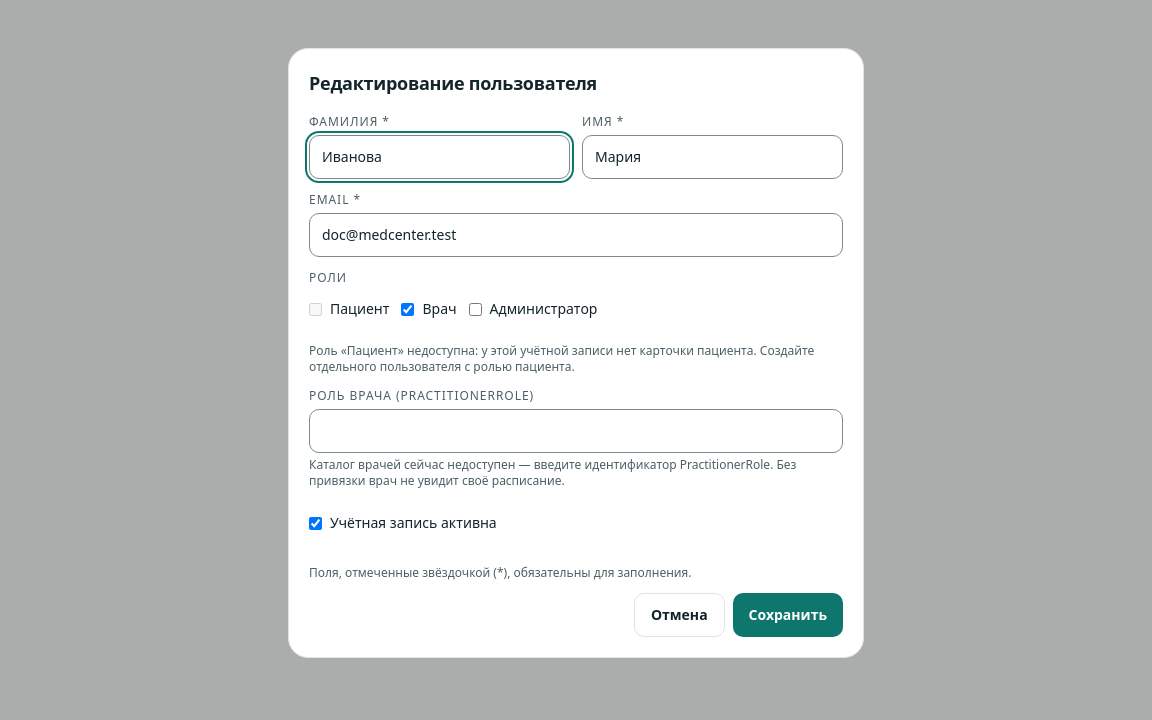
Test case: UserFormDialog (edit) › should put PRACTITIONER_ROLE_TAKEN at the PractitionerRole field when the role belongs to another account
In the field labelled "Роль врача (PractitionerRole)": [576, 431] box [309,409,843,453], type "6ef5270b-6282-5a43-87f9-26d2d8b0c4f7"
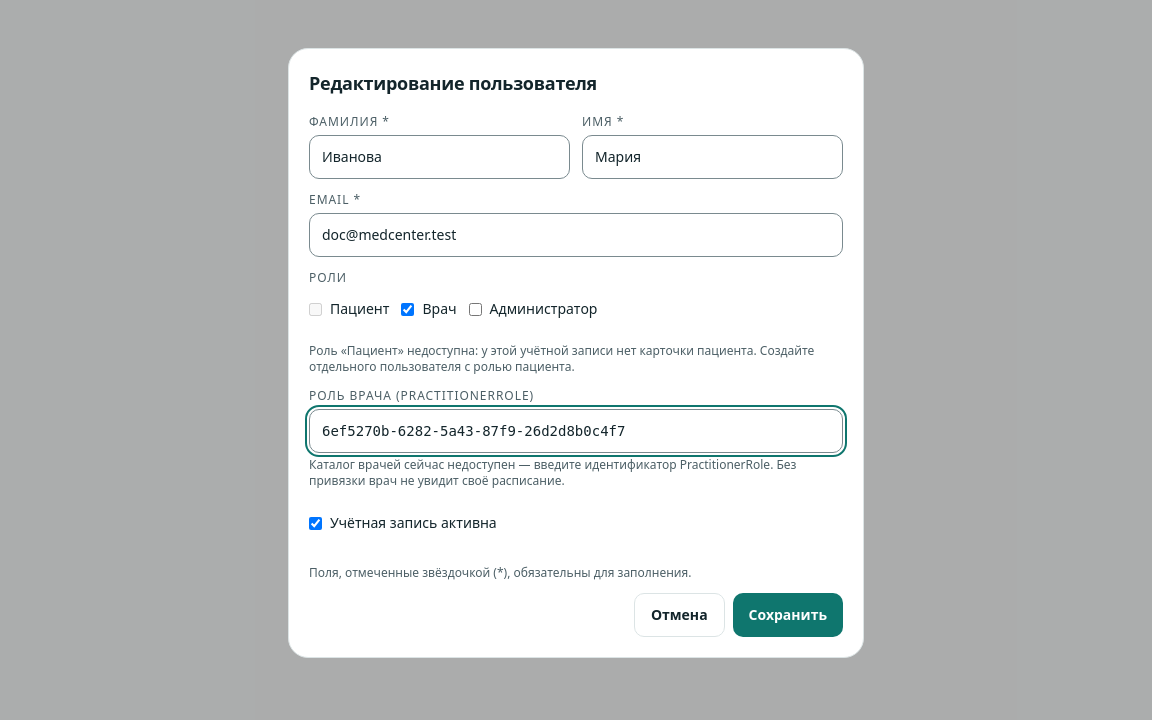
Click the button "Сохранить": [788, 615] box [733,593,843,637]
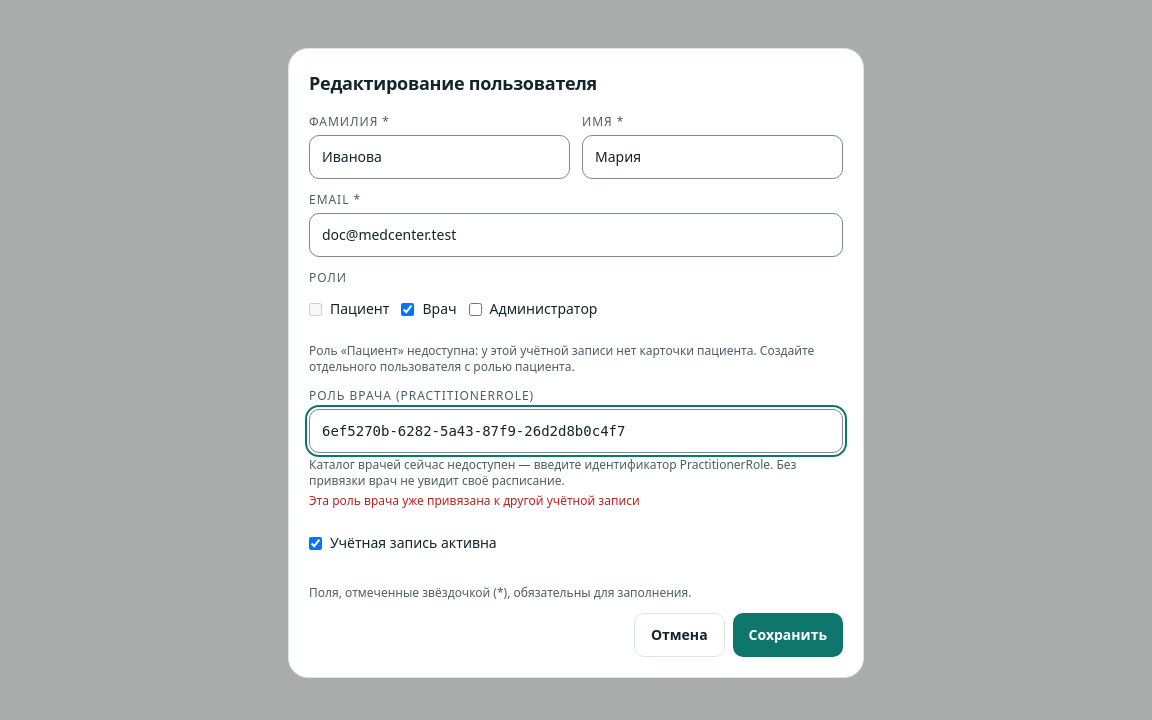
Check: the text "Эта роль врача уже привязана к другой учётной записи" is shown, box [309,492,640,509]
